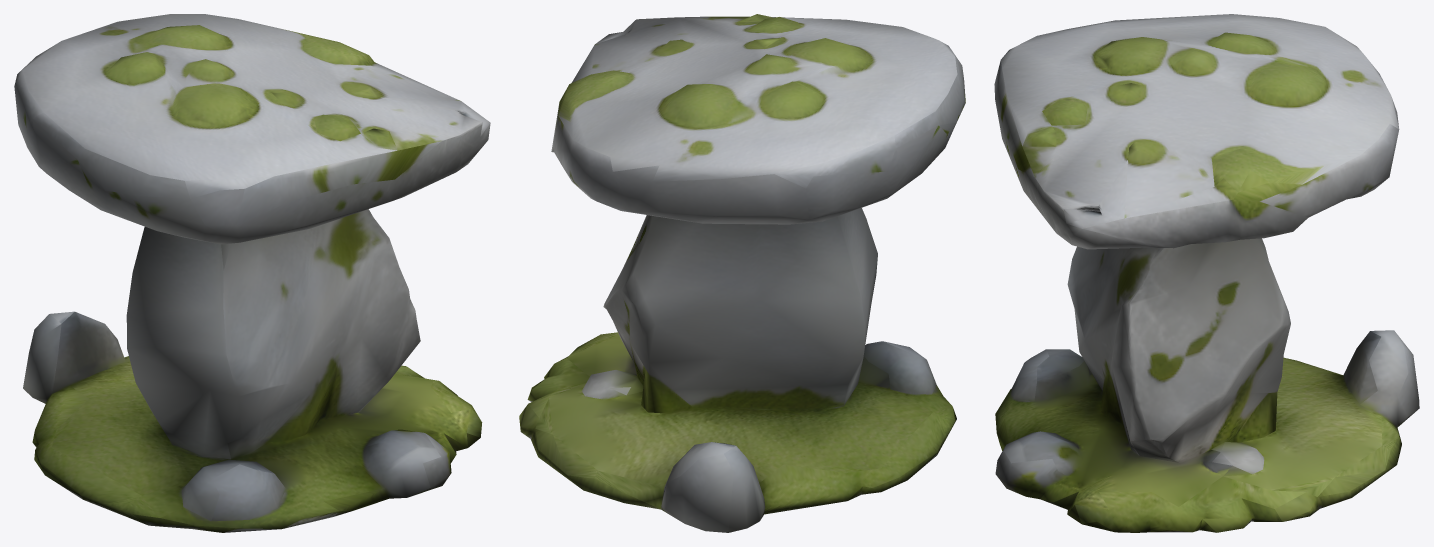
The model's file is rock_small_cluster_b.glb.
3 renders of one model, left to right at view 1: azimuth 30°, elevation 25°; view 2: azimuth 150°, elevation 25°; view 3: azimuth 270°, elevation 25°, orthographic. The views are drawn at different scales.
Parts seen in each view (by area): view 1: node_0; view 2: node_0; view 3: node_0.
Part boxes in pixels (x1,y1,x2,y2): node_0: (14,14,490,532); node_0: (519,14,965,532); node_0: (994,14,1419,532).
Size of the model in its own units: 0.5812 by 0.5506 by 0.5725.
Materials: 1 (1 with a texture image).
